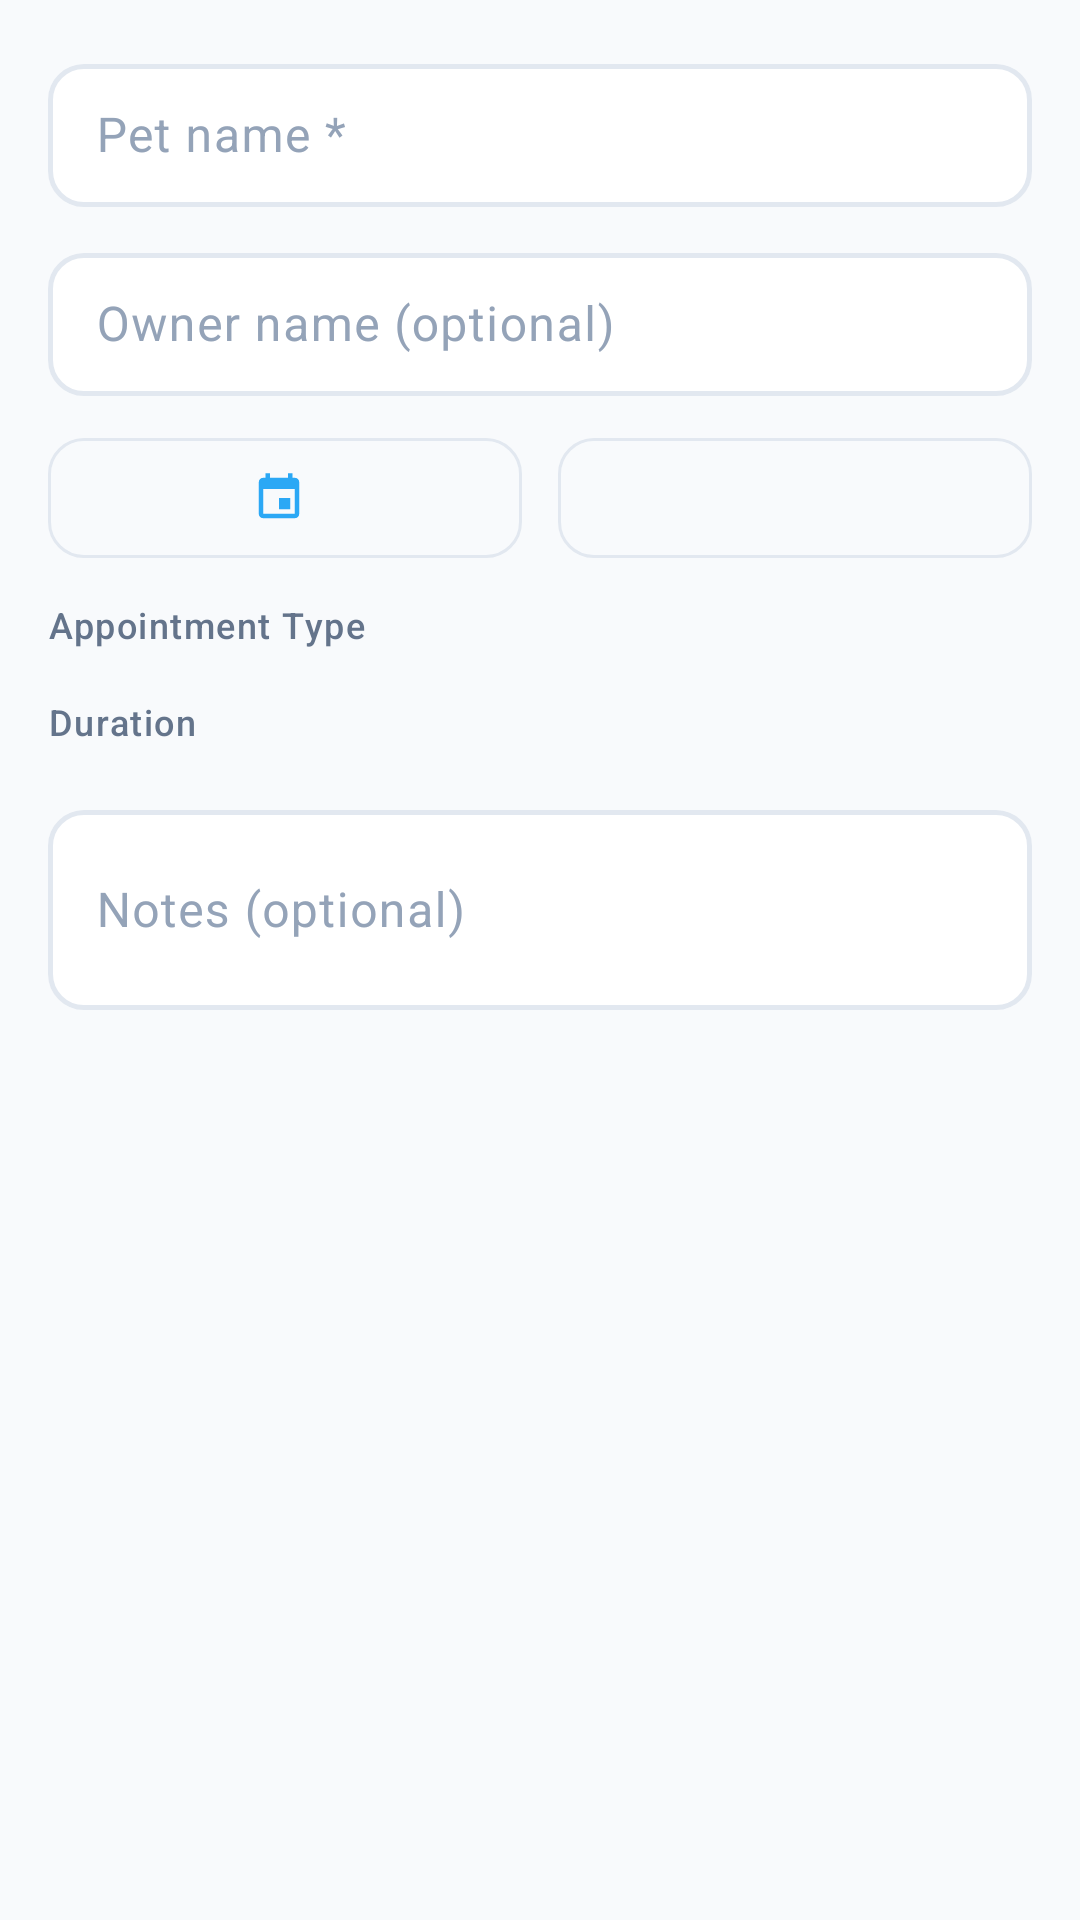

Point at icon controls on the screen. Image size 1080w x 1920h, points as point (x, y).
appointments: point (279, 496)
